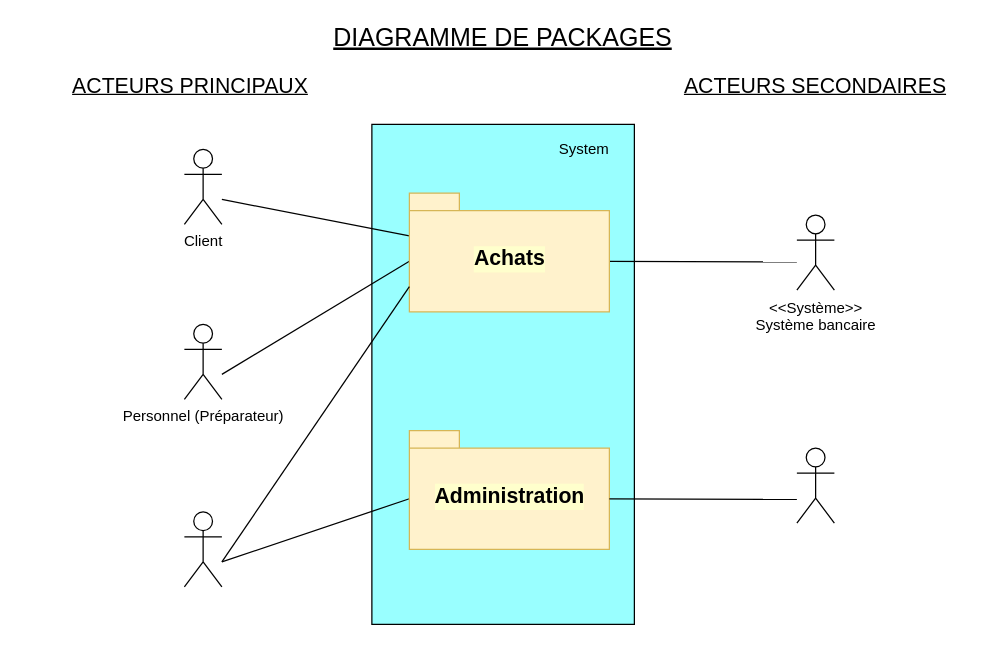
This 1005x646 diagram has some shape labels left out. Each missing label, with the box of its shape:
<<Système>> Consortium des Pizzerias de France: (796, 447, 834, 523)
Patron: (183, 511, 222, 587)
